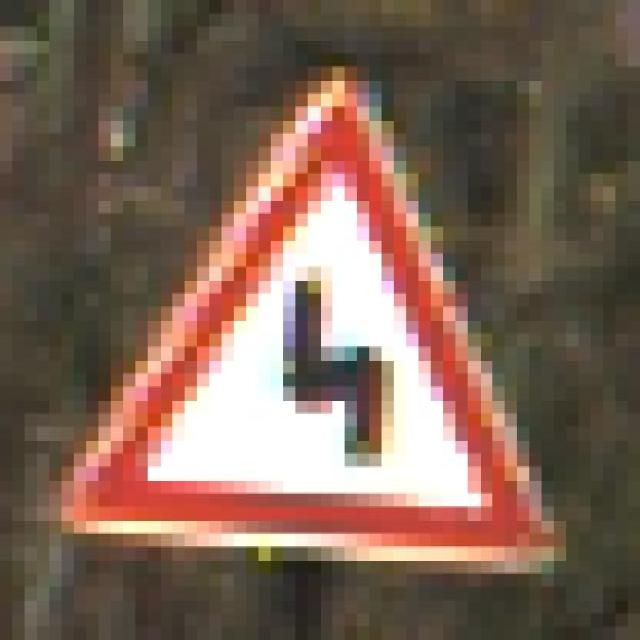Left Zig Zag Traffic: (49, 66, 578, 600)
